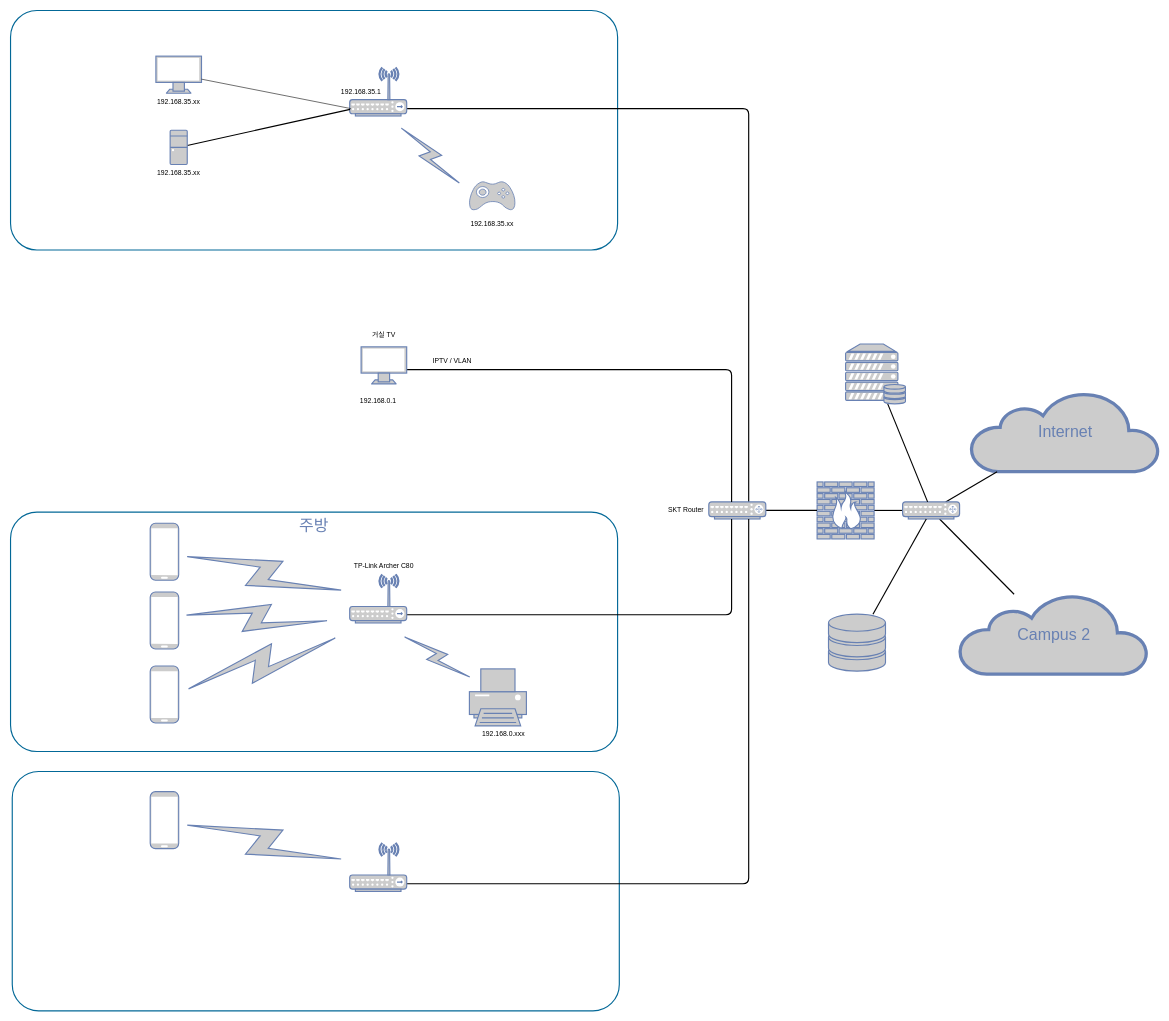
Image size: 1169x1021. Some labels were removed from this diagram. Here are the shapes that lost their labels. From the top down, the box of each, then its label:
(10, 10, 618, 250): 내방
(11, 771, 620, 1011): 방1
